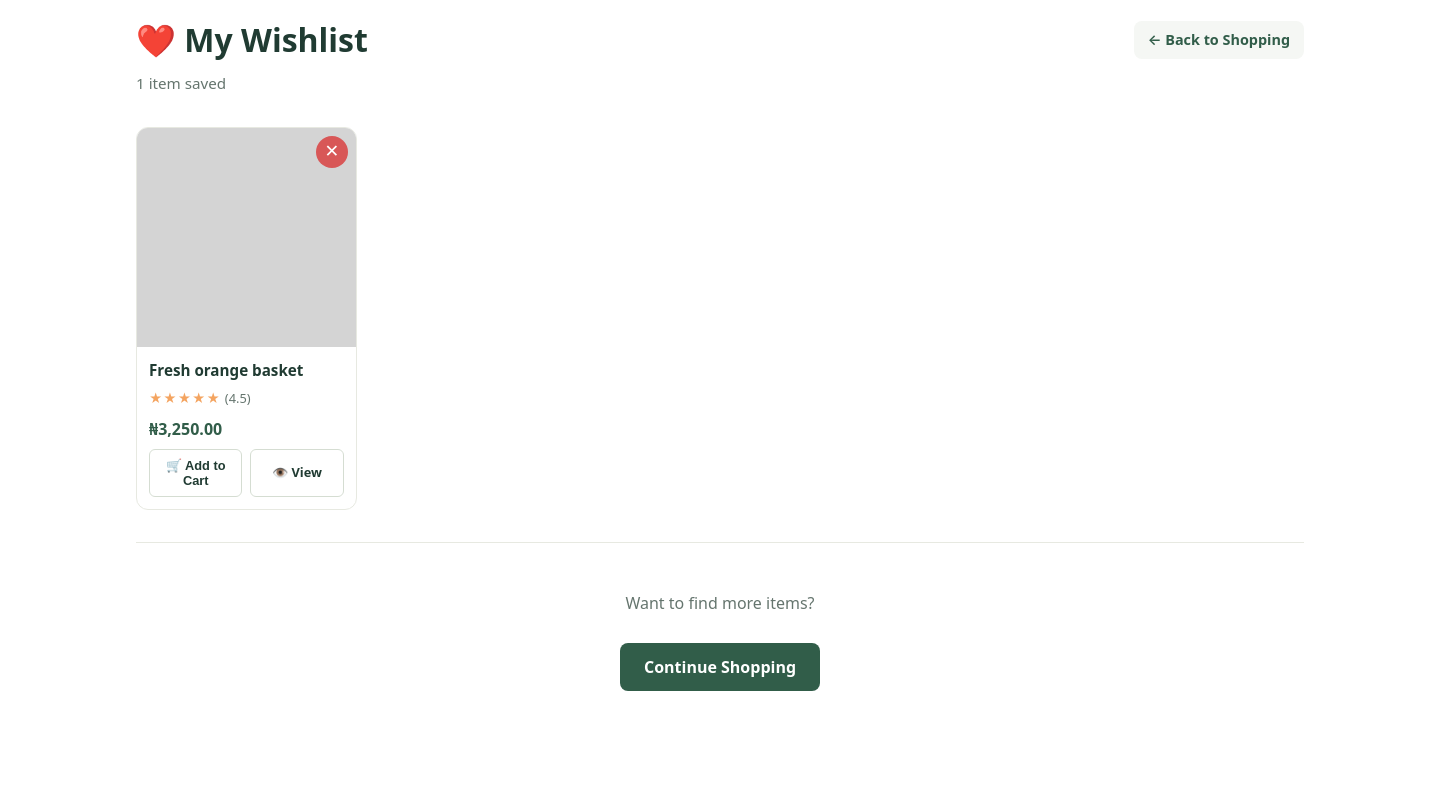
Scenario: wishlist page › removes a product and shows the empty state
The image size is (1440, 810).
Click the button named "Remove Fresh orange basket from wishlist". click: x=332, y=152
box: [316,136,348,168]
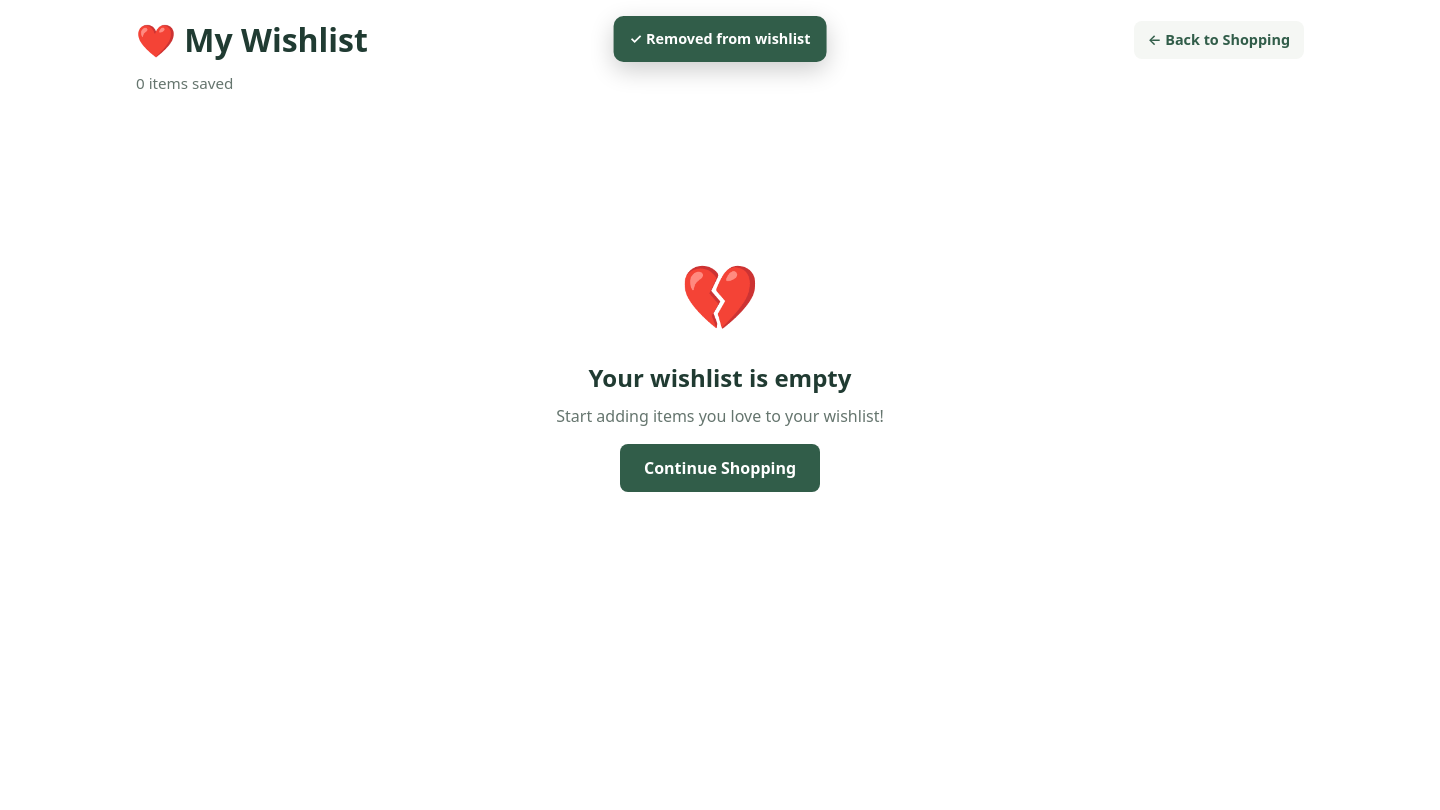
expect the heading "Your wishlist is empty" is shown: met, box [589,360,851,396]
